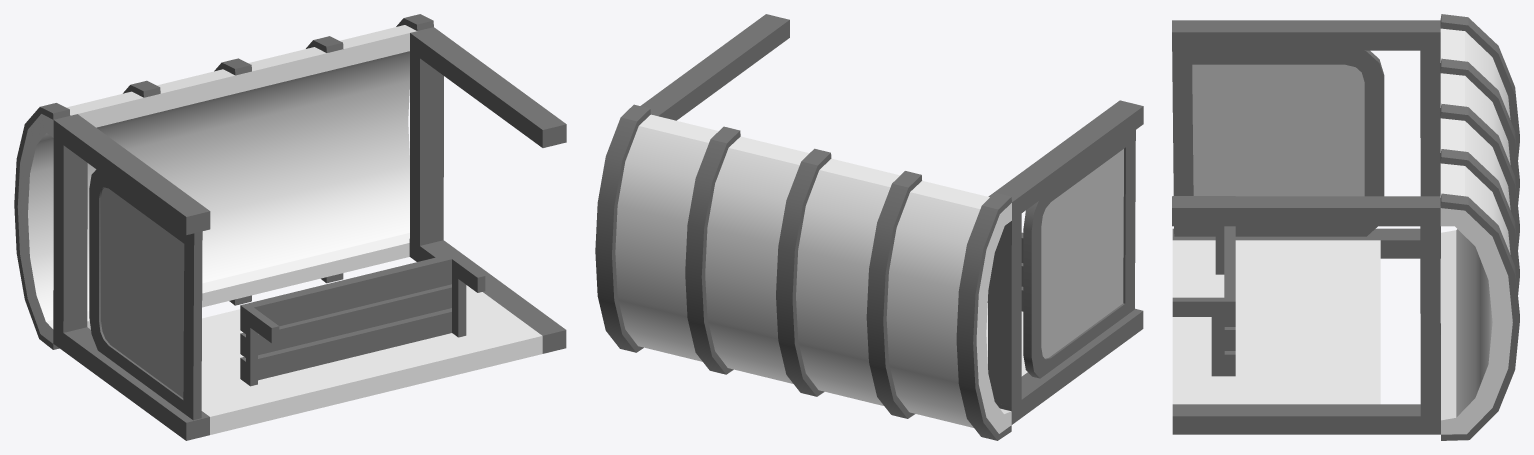
Rendered from P_BusStop.fbx.
3 renders of one model, left to right at view 1: azimuth 30°, elevation 25°; view 2: azimuth 150°, elevation 25°; view 3: azimuth 270°, elevation 25°, orthographic.
Visible parts, largest first — view 1: Bus_stop; view 2: Bus_stop; view 3: Bus_stop.
Boxes of the visible parts, x1,y1,x2,y2 form: Bus_stop: (14,14,566,440); Bus_stop: (595,14,1143,440); Bus_stop: (1172,14,1519,440).
Bounding box in the file's own units: 416 × 247 × 326.
